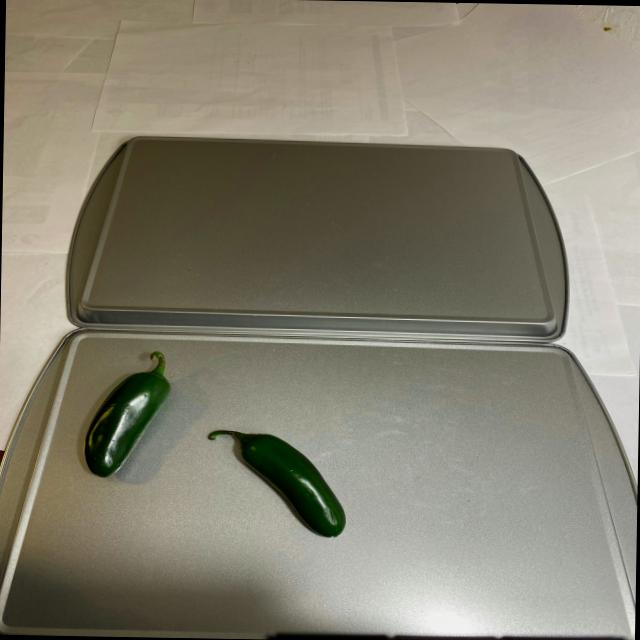chilli: (71, 342, 358, 548)
